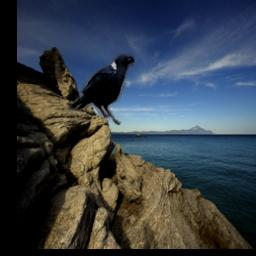Crow: (69, 55, 134, 126)
